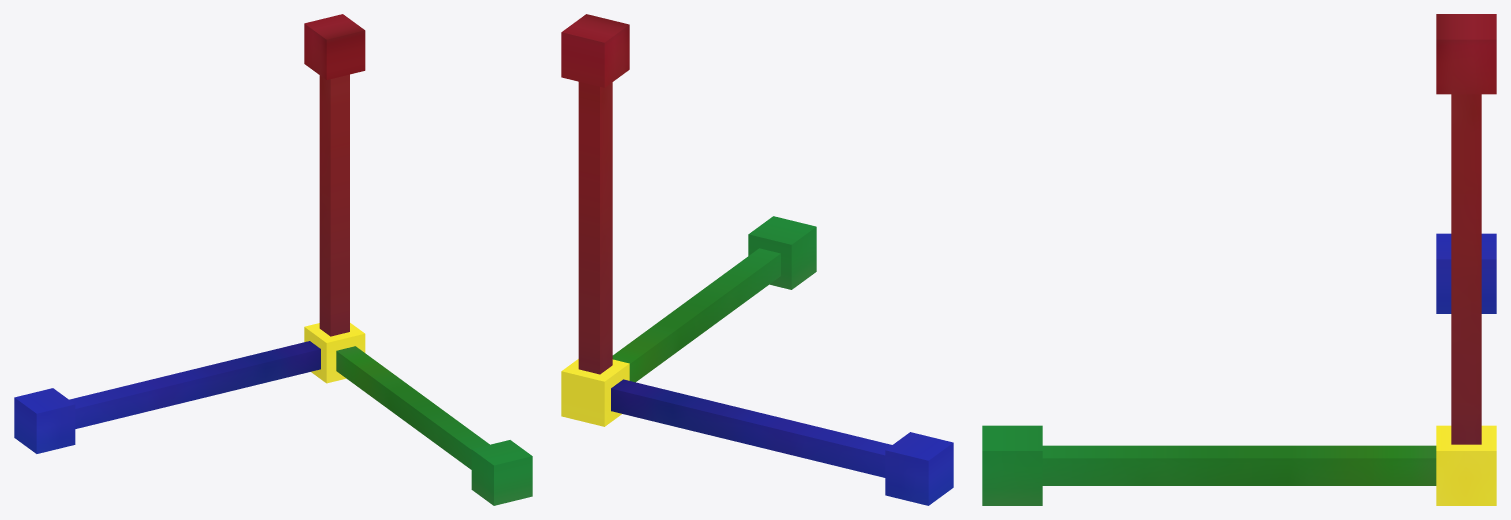
Rendered from 2336fa21-3b1a-440d-9b08-12d4546cbeb9.glb.
The picture shows the model from 3 angles, left to right: view 1: azimuth 30°, elevation 25°; view 2: azimuth 150°, elevation 25°; view 3: azimuth 270°, elevation 25°; orthographic projection. The views are drawn at different scales.
Parts seen in each view (by area): view 1: GizmoScaleXYZ; view 2: GizmoScaleXYZ; view 3: GizmoScaleXYZ.
Boxes of the visible parts, left/top/right/bottom form: GizmoScaleXYZ: left=14, top=14, right=532, bottom=505; GizmoScaleXYZ: left=561, top=14, right=953, bottom=505; GizmoScaleXYZ: left=982, top=14, right=1496, bottom=505.
Bounding box in the file's own units: 1.7 × 1.7 × 1.7.
1 material, 1 textured.
